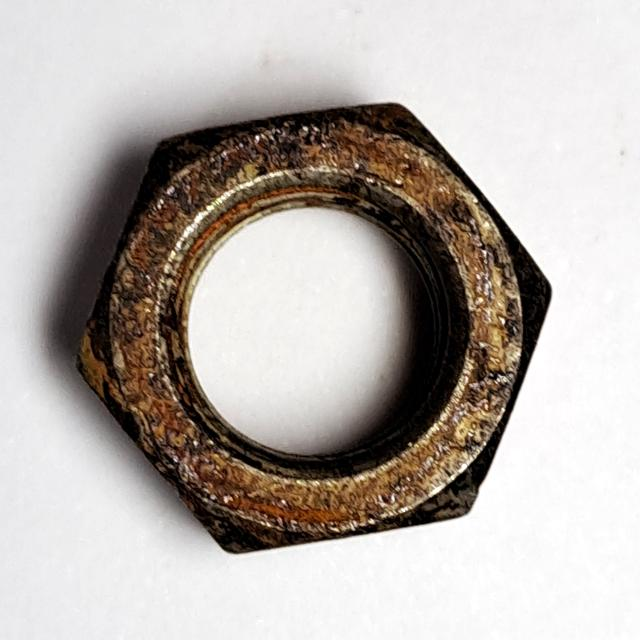Rust: (64, 79, 569, 569)
